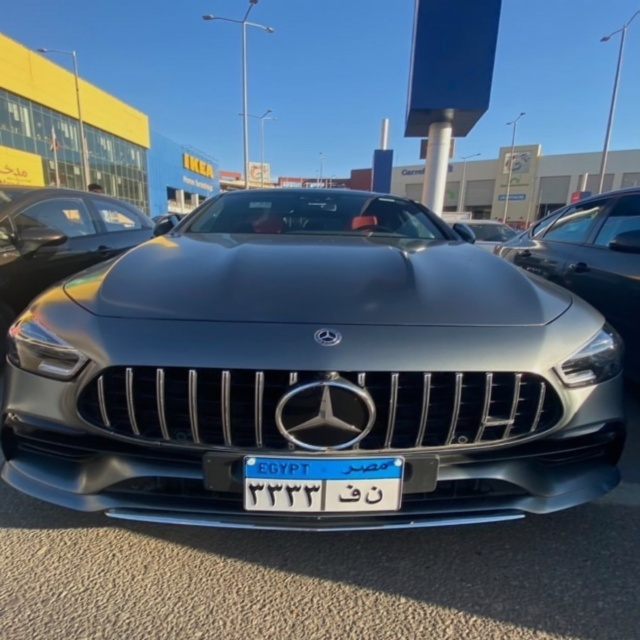License Plate: (243, 453, 408, 514)
